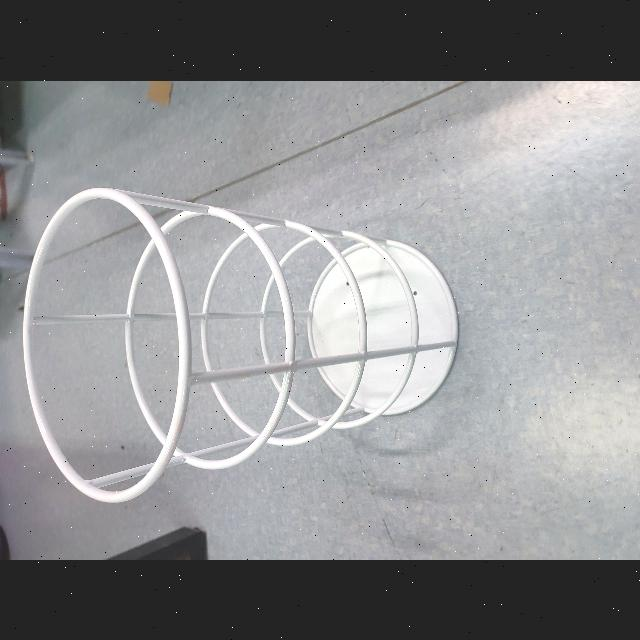S: (16, 184, 464, 506)
